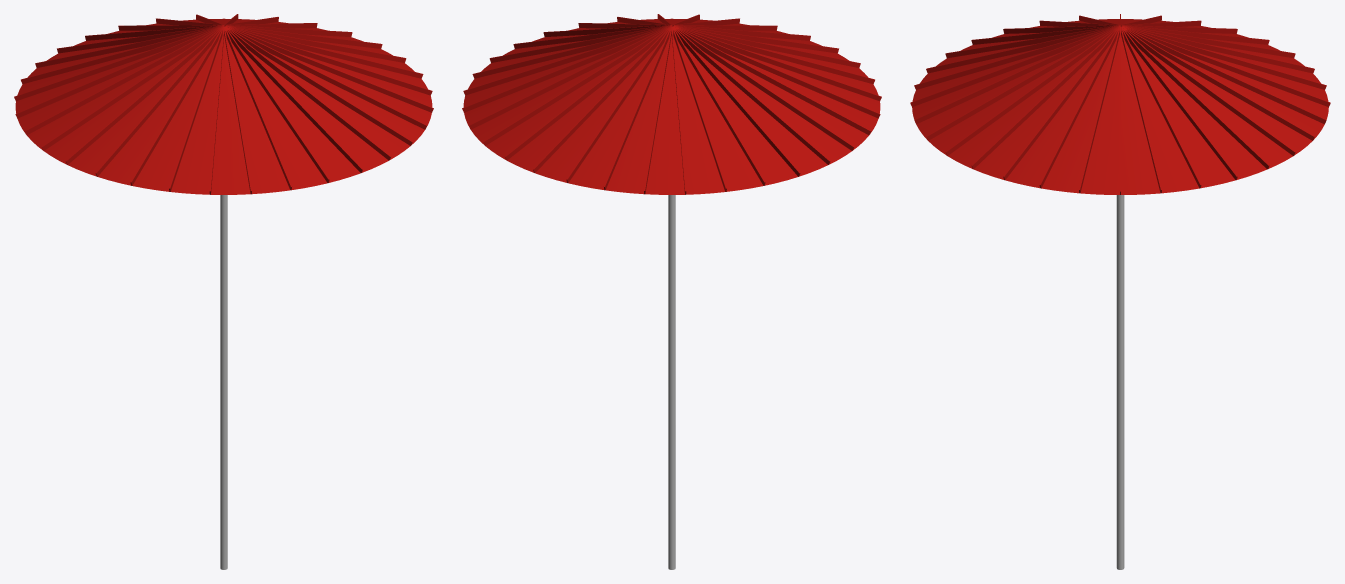
The model's file is 野点傘.obj.
3 views of the same model, side by side, from view 1: azimuth 30°, elevation 25°; view 2: azimuth 150°, elevation 25°; view 3: azimuth 270°, elevation 25° (orthographic).
Parts seen in each view (by area): view 1: ソリッド1; view 2: ソリッド1; view 3: ソリッド1.
Boxes of the visible parts, x1,y1,x2,y2 form: ソリッド1: (14,14,433,569); ソリッド1: (462,14,881,569); ソリッド1: (910,14,1330,569).
Bounding box in the file's own units: 1685 × 2399 × 1685.
